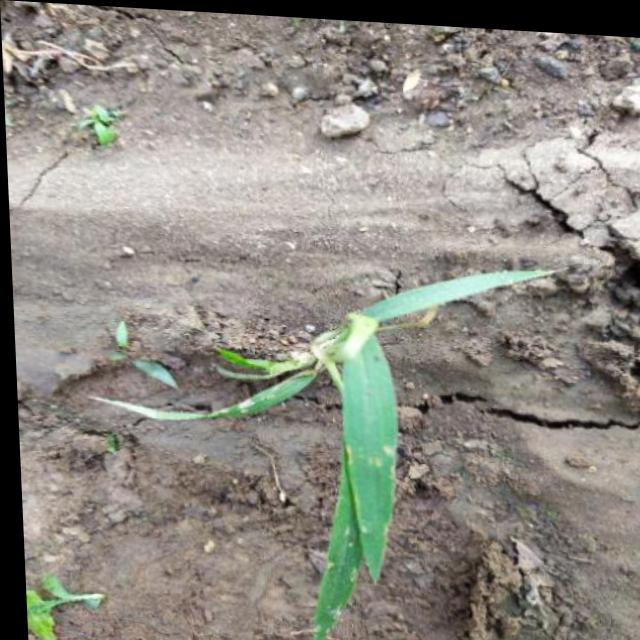weed: (85, 216, 572, 640)
